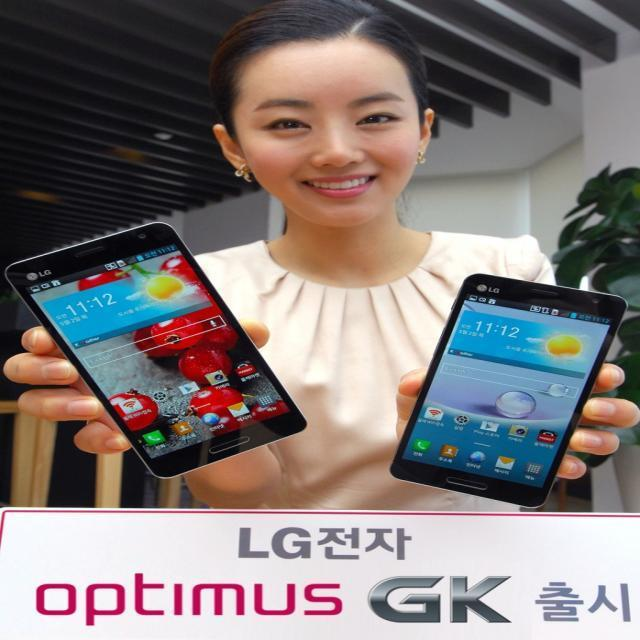Phone: (6, 217, 313, 480), (386, 273, 628, 508)
